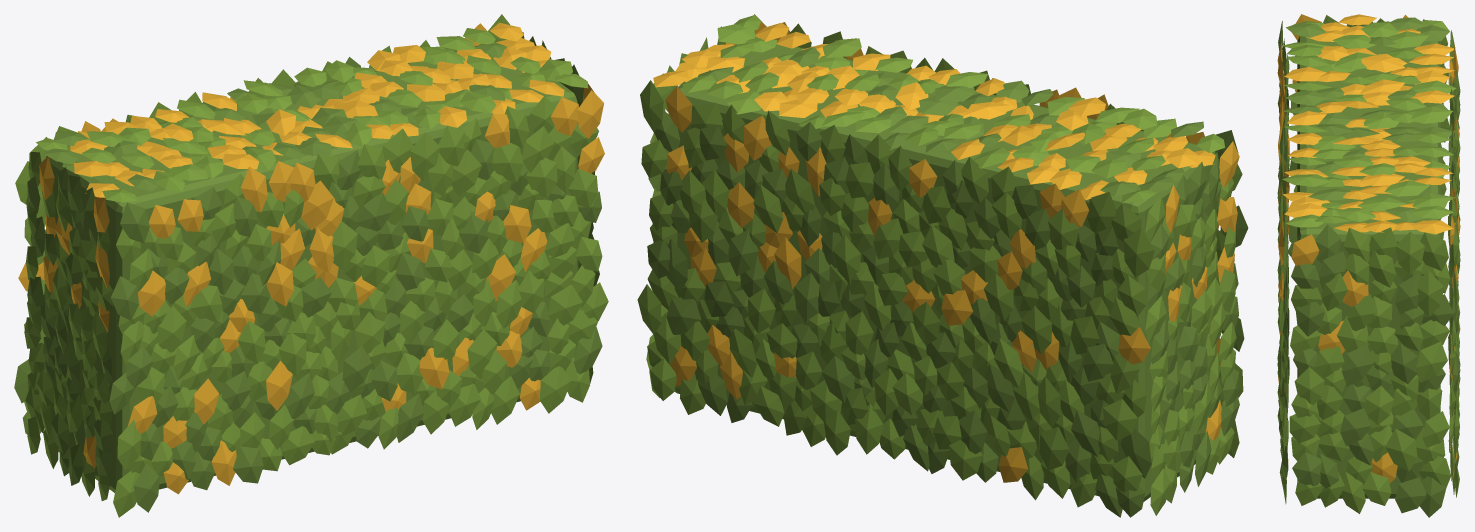
Rendered from prop.flower.glb.
3 renders of one model, left to right at view 1: azimuth 30°, elevation 25°; view 2: azimuth 150°, elevation 25°; view 3: azimuth 270°, elevation 25°, orthographic. The views are drawn at different scales.
Size of the model in its own units: 0.632 by 0.3908 by 0.2203.
